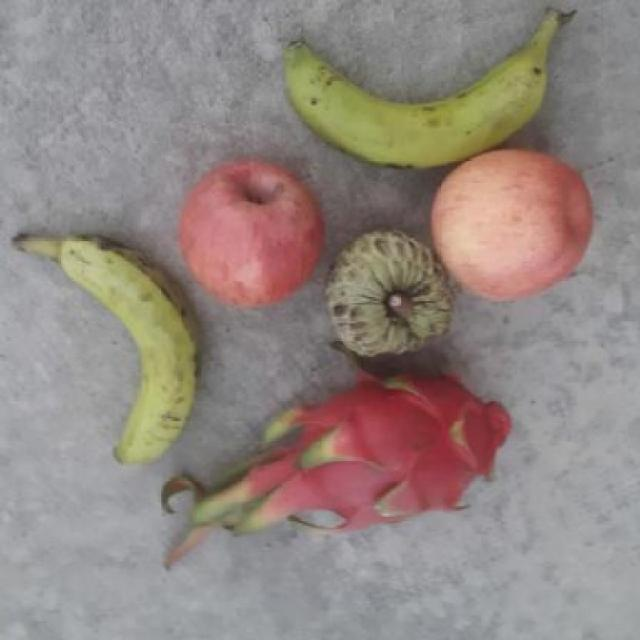apple: (432, 152, 598, 303), (182, 160, 330, 312)
banana: (2, 235, 202, 472), (270, 12, 552, 176)
dragon fruit: (276, 367, 516, 536)
sugar apple: (332, 229, 459, 365)
